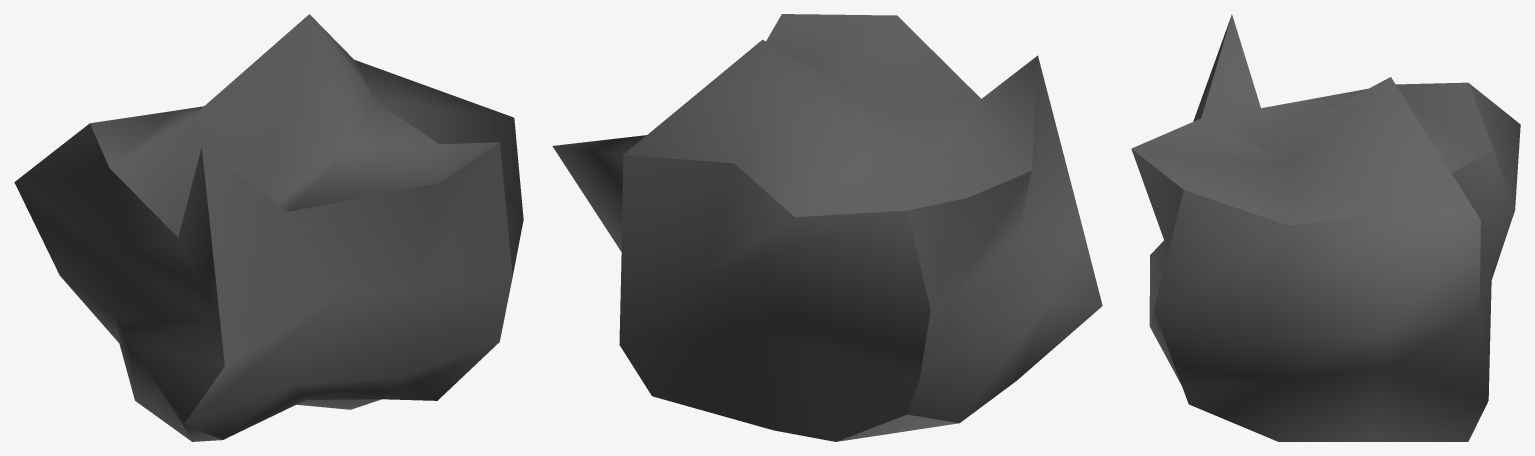
The model's file is asteroid2.FBX.
3 renders of one model, left to right at view 1: azimuth 30°, elevation 25°; view 2: azimuth 150°, elevation 25°; view 3: azimuth 270°, elevation 25°, orthographic. The views are drawn at different scales.
Parts seen in each view (by area): view 1: Box001; view 2: Box001; view 3: Box001.
Part boxes in pixels (x1=…): Box001: x1=14, y1=14, x2=523, y2=441; Box001: x1=552, y1=14, x2=1102, y2=441; Box001: x1=1131, y1=14, x2=1520, y2=441.
Size of the model in its own units: 25.12 by 20.25 by 19.71.
